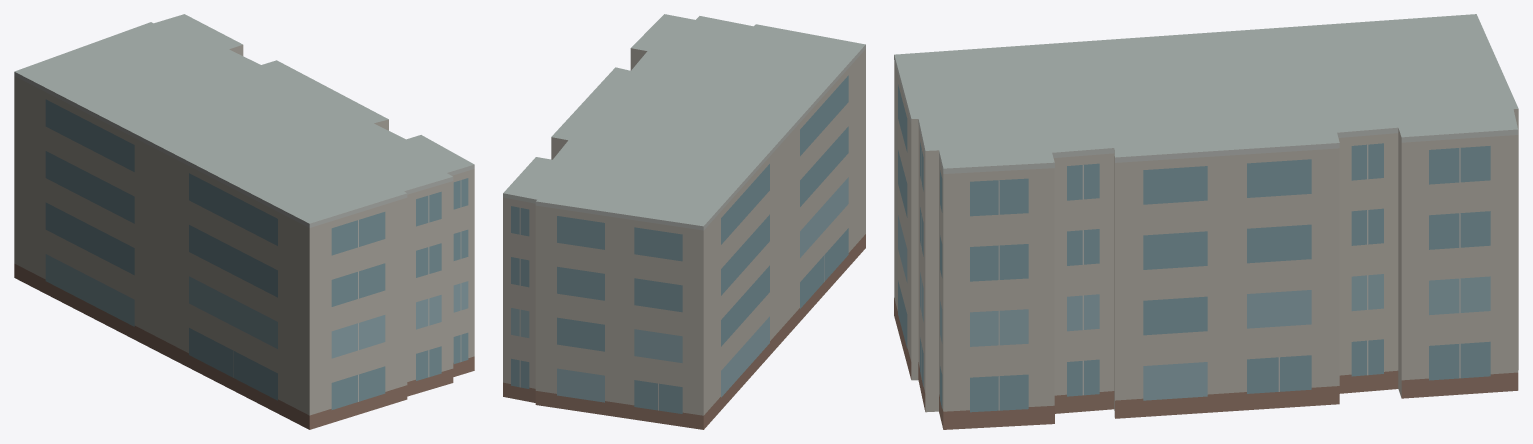
The model's file is survey-upis-32924603.glb.
The picture shows the model from 3 angles, left to right: view 1: azimuth 30°, elevation 25°; view 2: azimuth 150°, elevation 25°; view 3: azimuth 270°, elevation 25°; orthographic projection. The views are drawn at different scales.
Parts seen in each view (by area): view 1: survey-upis-32924603.tmp; view 2: survey-upis-32924603.tmp; view 3: survey-upis-32924603.tmp.
Part boxes in pixels (bbox=[...]): survey-upis-32924603.tmp: bbox=[14, 14, 474, 429]; survey-upis-32924603.tmp: bbox=[503, 14, 865, 429]; survey-upis-32924603.tmp: bbox=[894, 14, 1518, 429].
Bounding box in the file's own units: 14.86 × 11.7 × 25.36.
